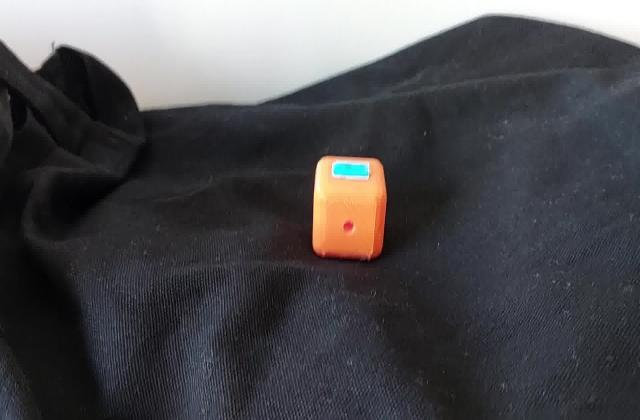blue: (338, 166, 364, 173)
cube: (308, 149, 391, 264)
